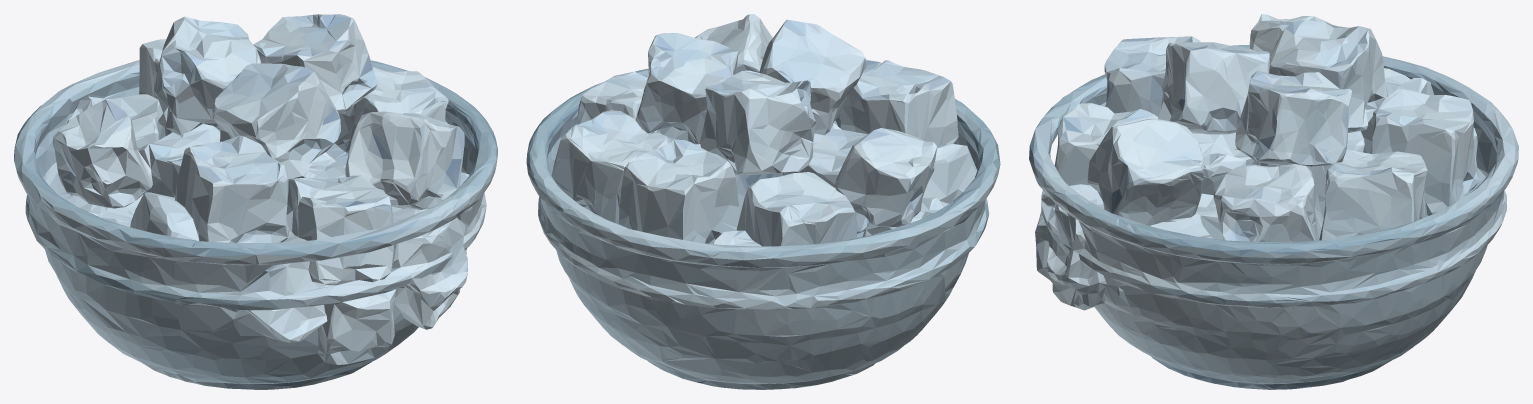
The model's file is ice.glb.
3 views of the same model, side by side, from view 1: azimuth 30°, elevation 25°; view 2: azimuth 150°, elevation 25°; view 3: azimuth 270°, elevation 25° (orthographic). The views are drawn at different scales.
Parts seen in each view (by area): view 1: geometry_0; view 2: geometry_0; view 3: geometry_0.
Boxes of the visible parts, x1,y1,x2,y2 form: geometry_0: (14,14,497,389); geometry_0: (526,14,1000,389); geometry_0: (1029,14,1518,389).
Size of the model in its own units: 0.13 by 0.0858 by 0.1299.
1 material, 1 textured.
